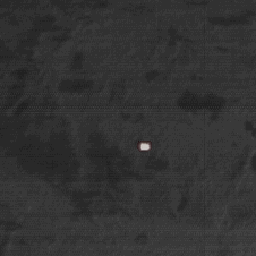Target: (138, 141, 153, 150)
